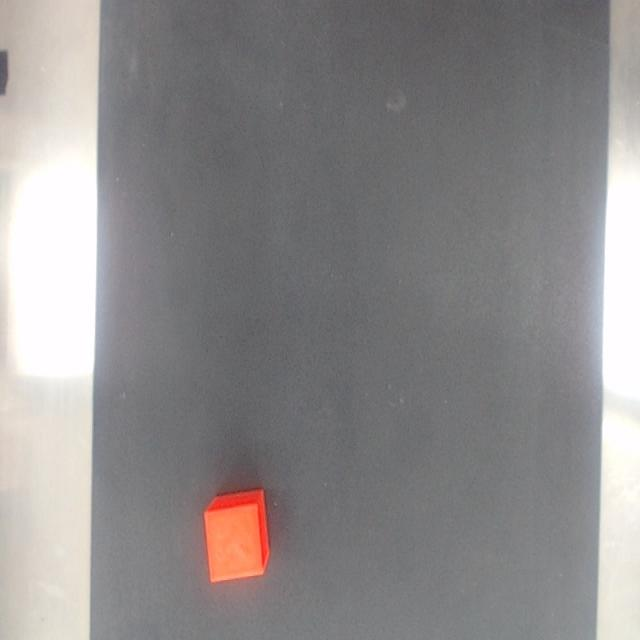Rojo: (203, 489, 269, 583)
